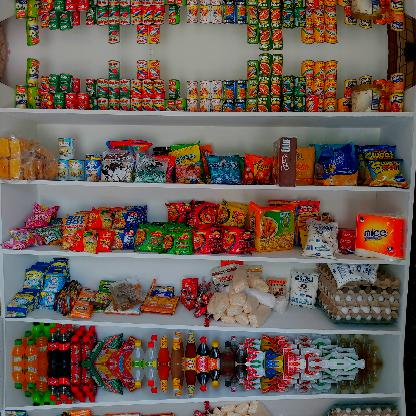Koko-Krunch: (272, 133, 298, 187)
Lady-s-Choice: (348, 82, 384, 114), (348, 0, 384, 23)
